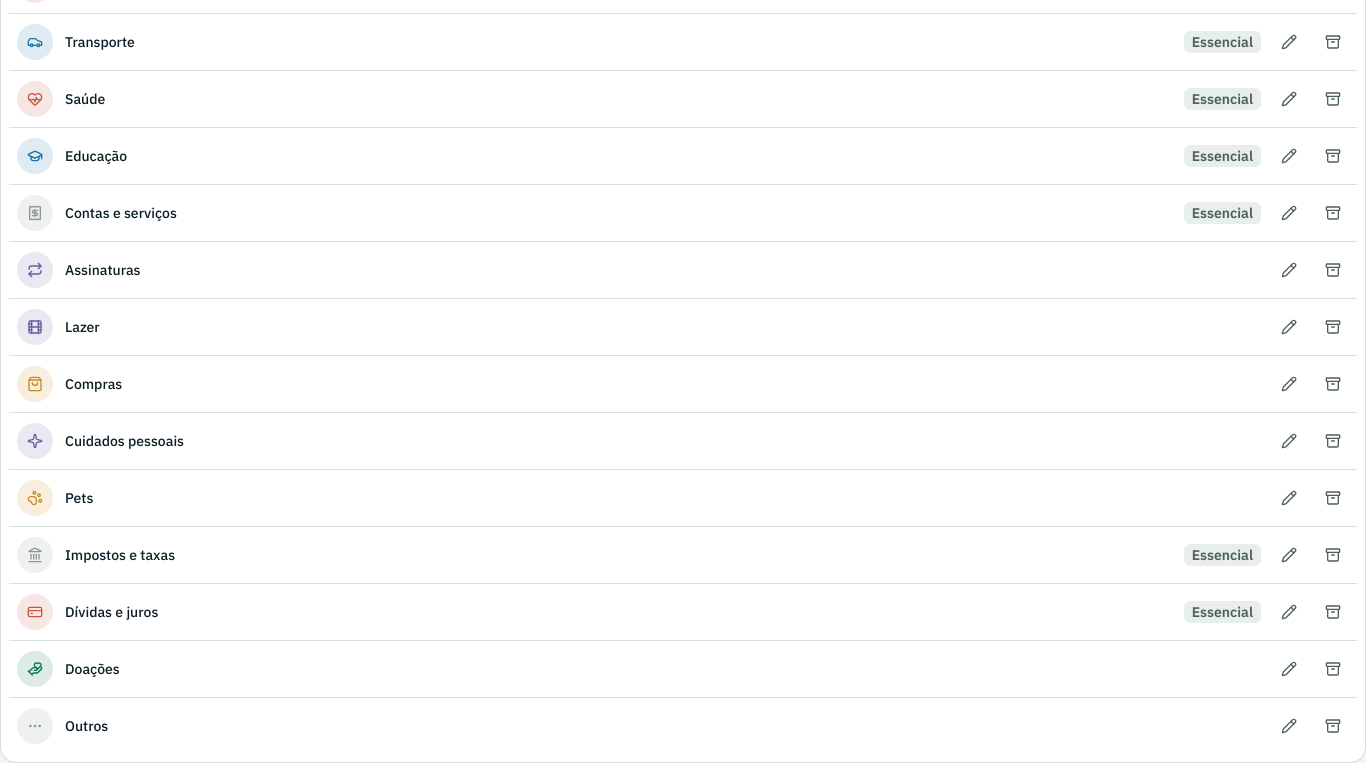
Test case: Categorias › edita uma categoria
(page scrolled)
Click the button named "Editar Pets" at [1289, 498], box [1273,482,1305,514]
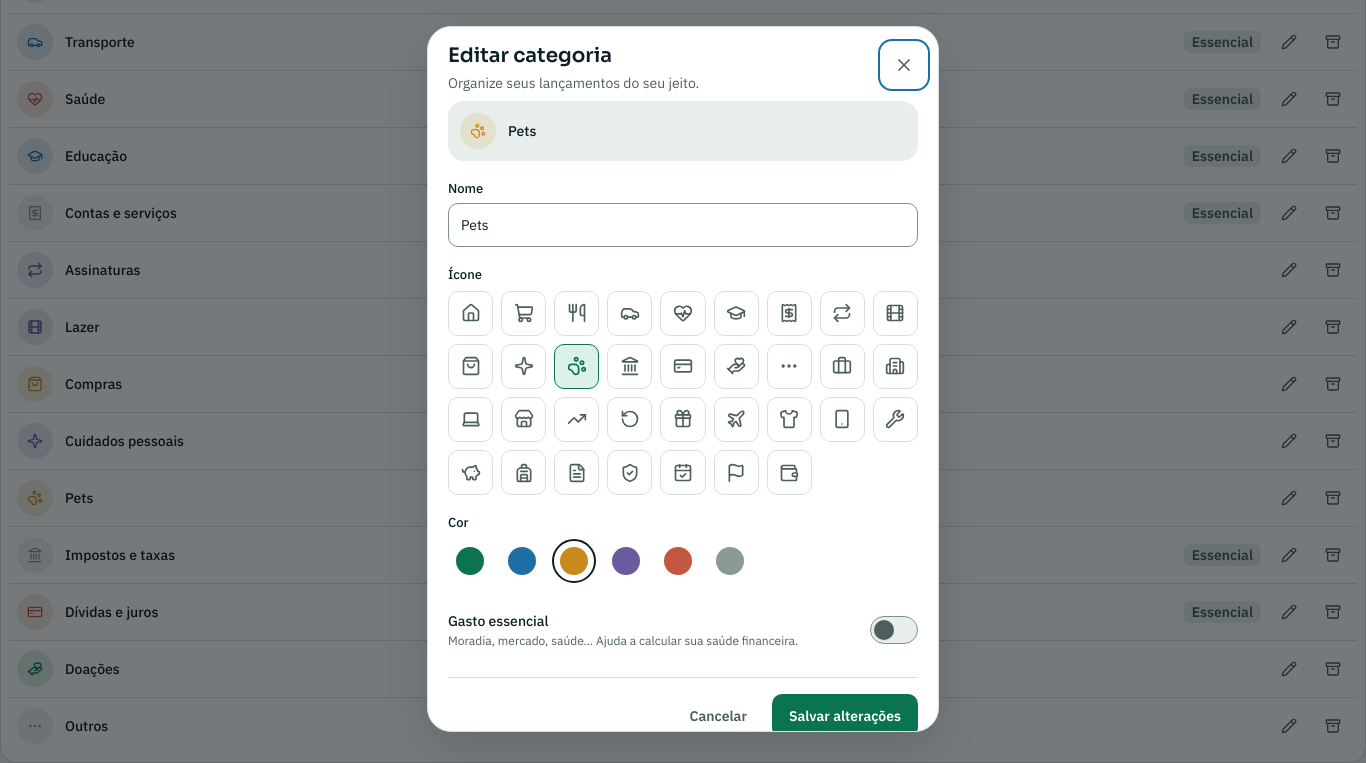
Replace the text in the field labelled "Nome" with "Pet e veterinário" at [683, 225], box [461,204,905,246]
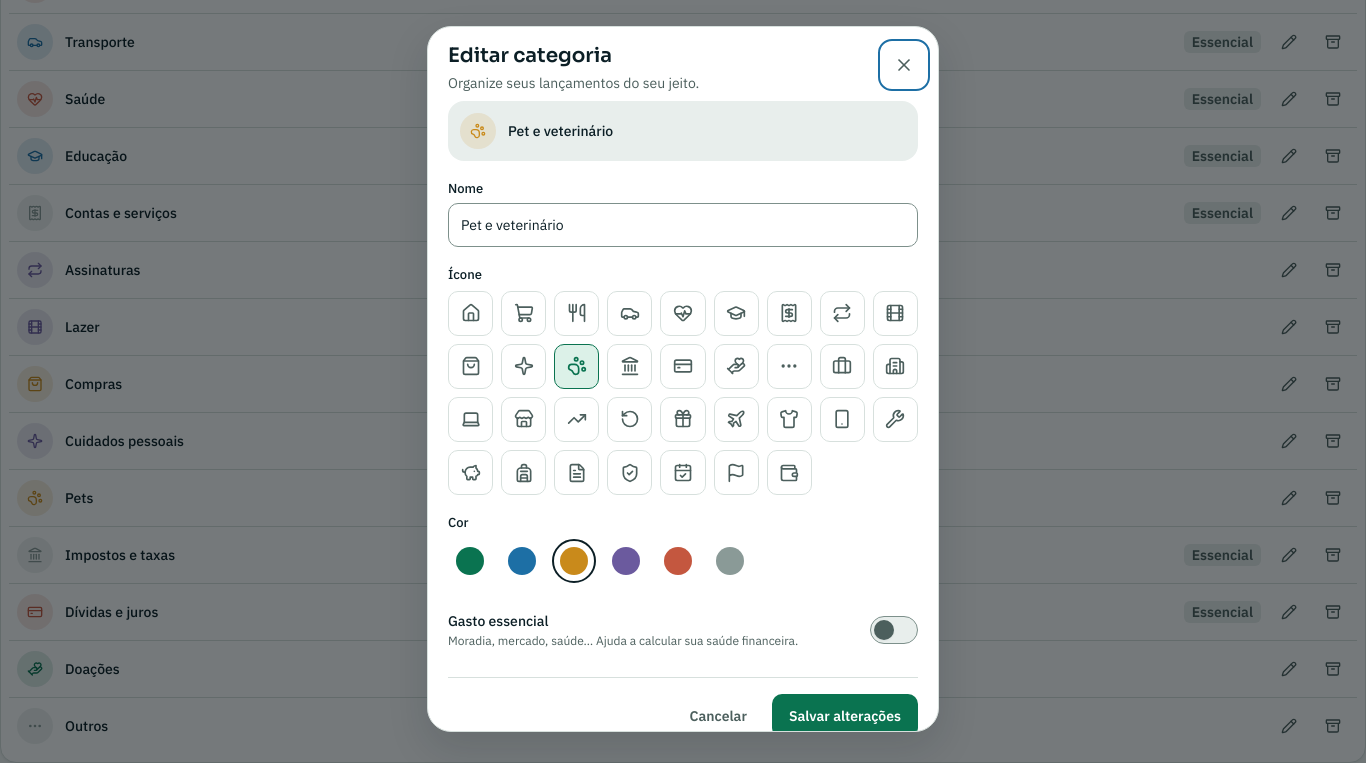
Click the button "Salvar alterações" at [845, 716], box [772,694,918,738]
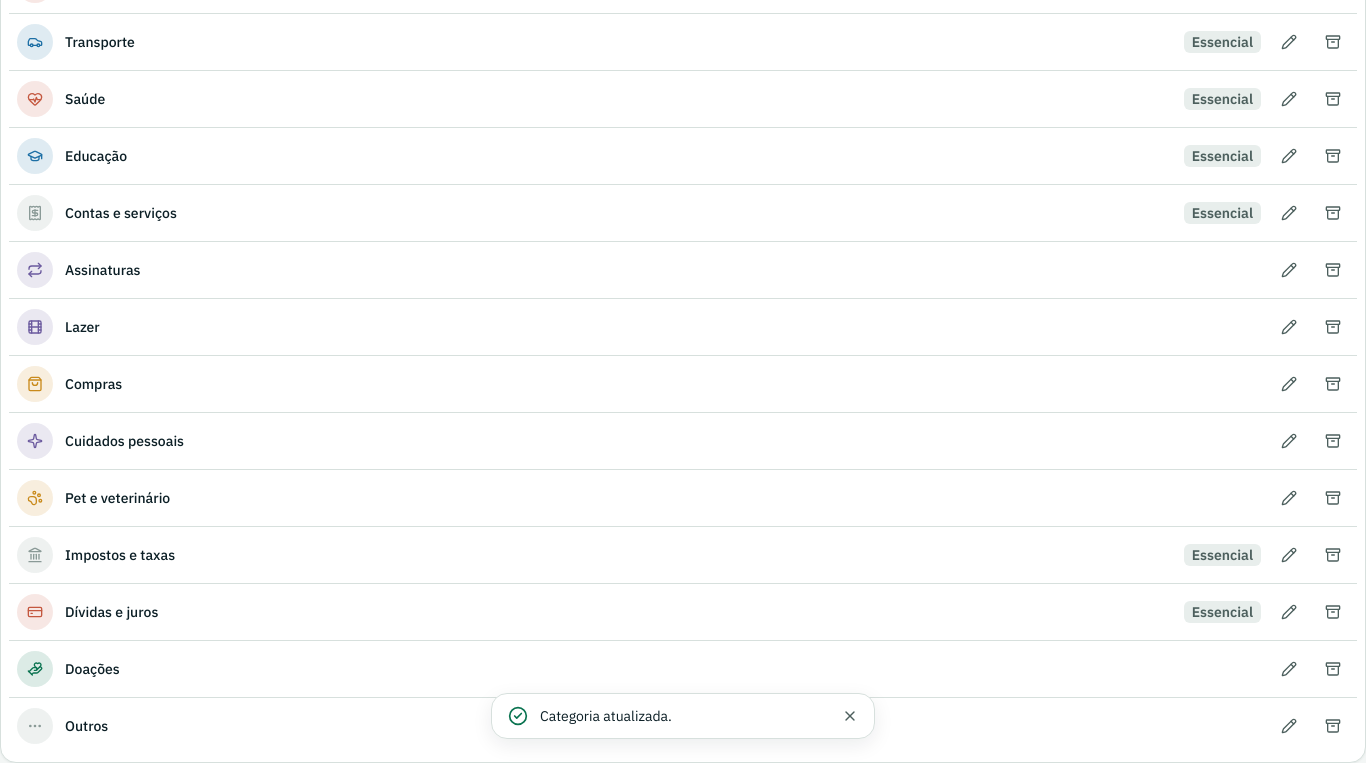
Expected: the text "Pet e veterinário" is shown, [65,489,170,507]
